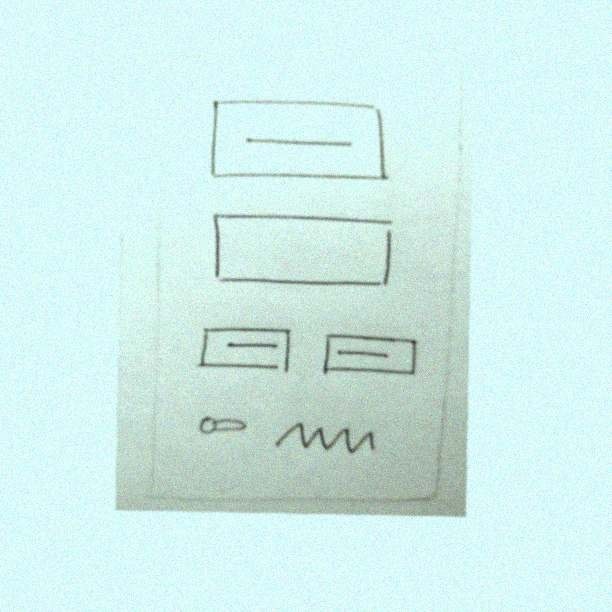button: (204, 88, 397, 193), (195, 321, 300, 378), (316, 329, 422, 383)
switch: (192, 407, 255, 443)
text: (271, 416, 383, 466)
text_input: (203, 208, 401, 293)
